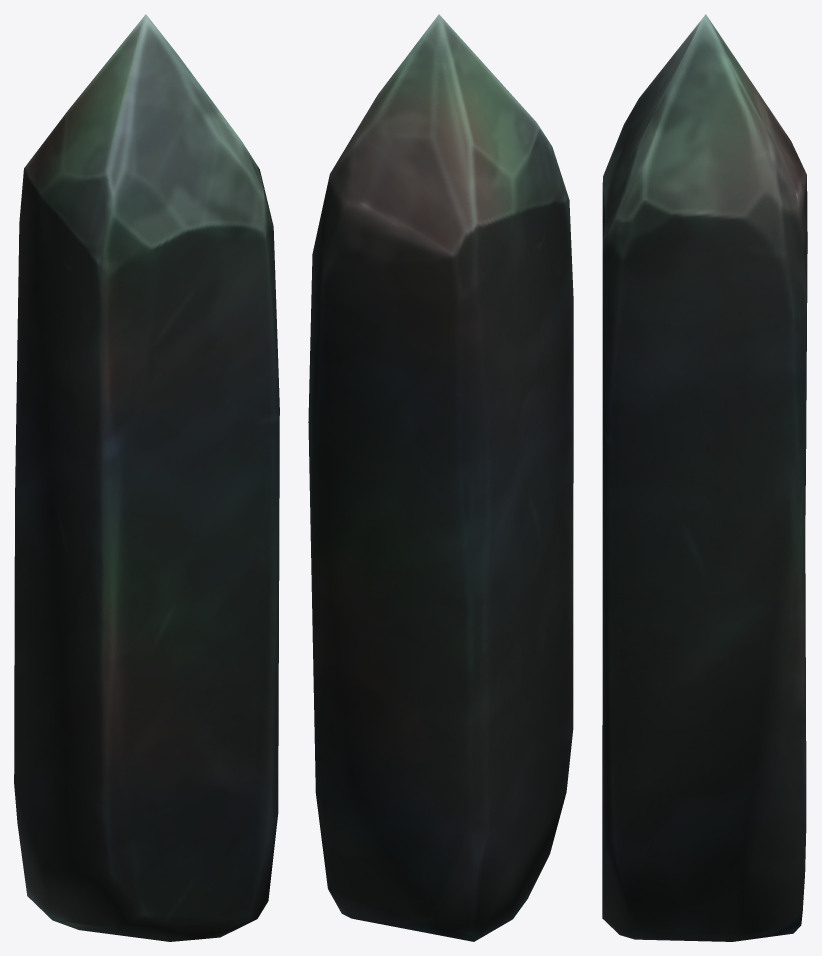
Rendered from SM_Gem_BlackQuartz_012.fbx.
3 renders of one model, left to right at view 1: azimuth 30°, elevation 25°; view 2: azimuth 150°, elevation 25°; view 3: azimuth 270°, elevation 25°, orthographic.
Visible parts, largest first — view 1: SM_Gem_BlackQuartz_012; view 2: SM_Gem_BlackQuartz_012; view 3: SM_Gem_BlackQuartz_012.
Part boxes in pixels (left/top/right/bottom): SM_Gem_BlackQuartz_012: left=14, top=14, right=279, bottom=941; SM_Gem_BlackQuartz_012: left=308, top=14, right=573, bottom=941; SM_Gem_BlackQuartz_012: left=602, top=14, right=807, bottom=941.
Bounding box in the file's own units: 16.54 × 79.2 × 16.48.
